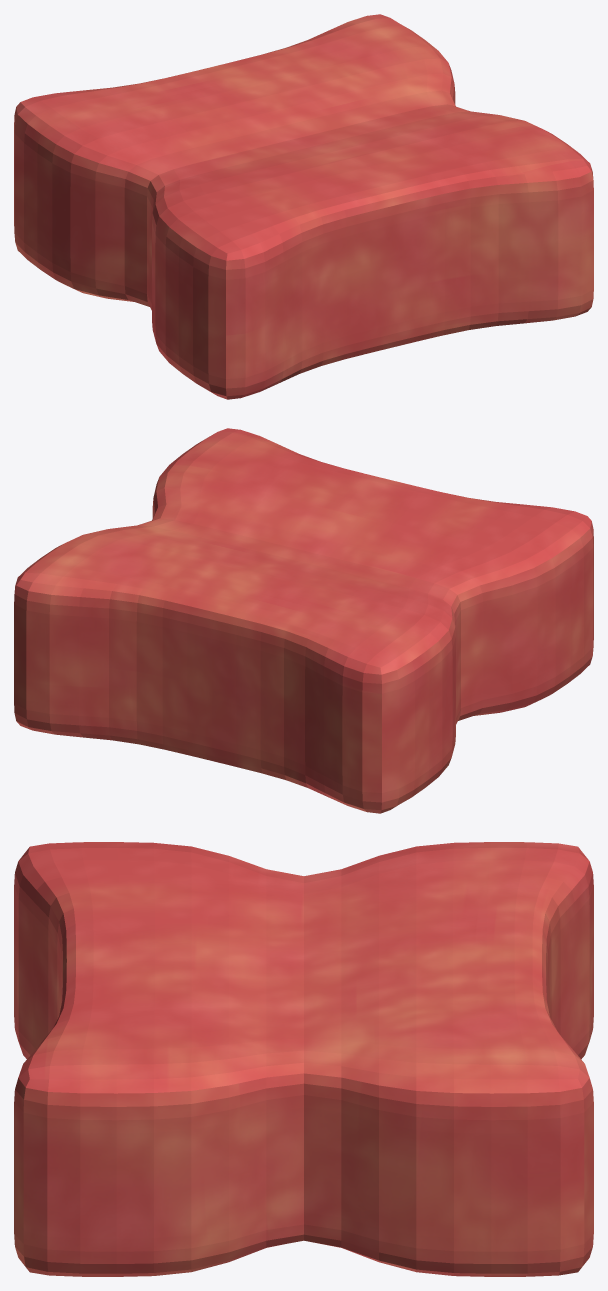
The model's file is Croquette1.fbx.
3 views of the same model, one above another, from view 1: azimuth 30°, elevation 25°; view 2: azimuth 150°, elevation 25°; view 3: azimuth 270°, elevation 25° (orthographic). The views are drawn at different scales.
Visible parts, largest first — view 1: Cube; view 2: Cube; view 3: Cube.
Boxes of the visible parts, x1=… form: Cube: x1=14, y1=14, x2=593, y2=399; Cube: x1=14, y1=428, x2=593, y2=813; Cube: x1=14, y1=842, x2=593, y2=1276.
Size of the model in its own units: 200 by 77.44 by 193.
